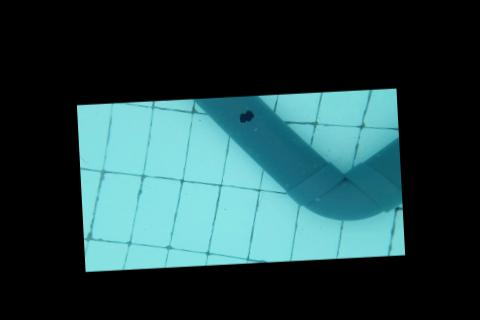kebocoran: (237, 107, 256, 123)
